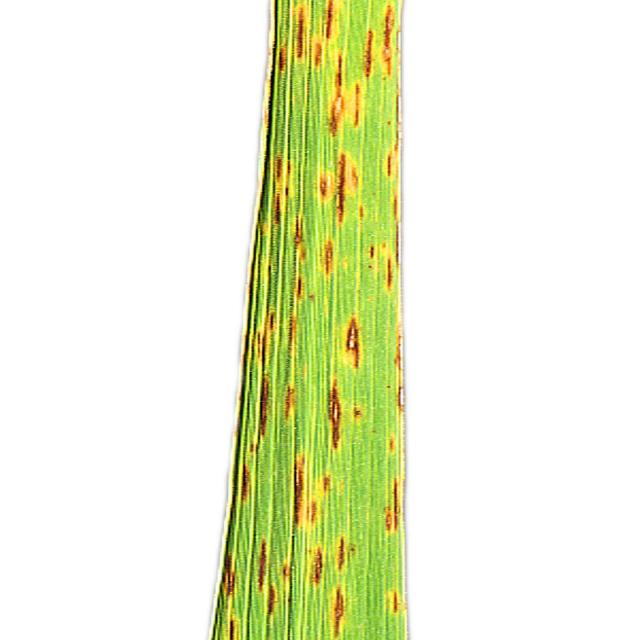Narrow brown: (176, 0, 494, 640)
